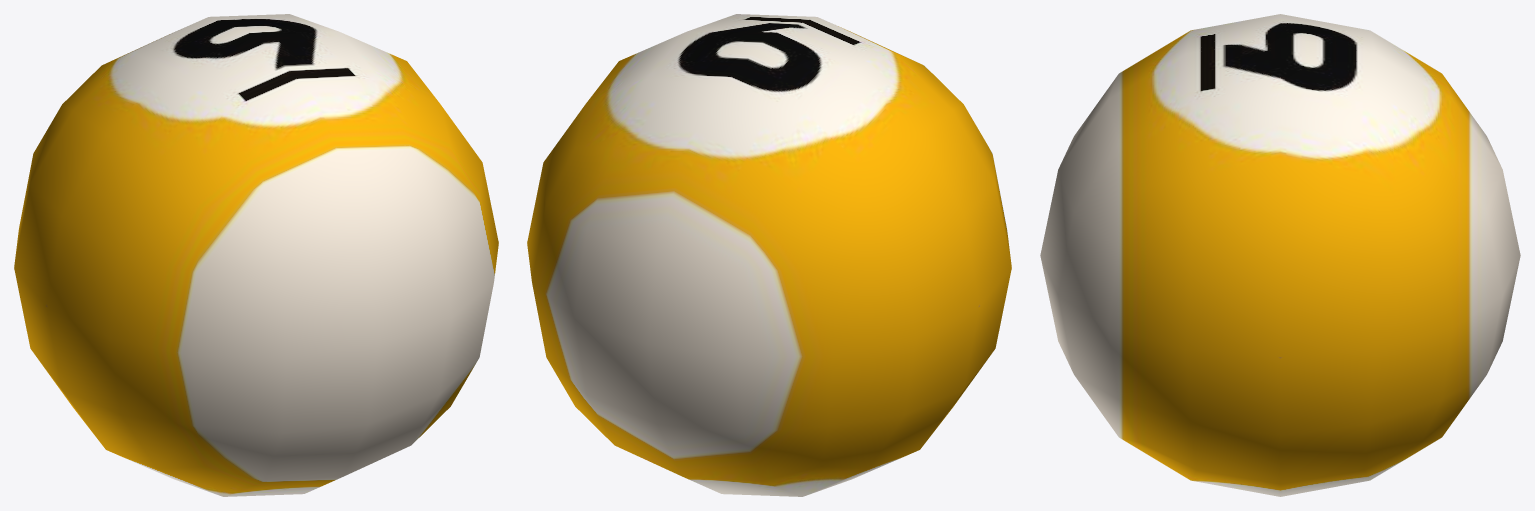
File: ball_09.fbx
3 renders of one model, left to right at view 1: azimuth 30°, elevation 25°; view 2: azimuth 150°, elevation 25°; view 3: azimuth 270°, elevation 25°, orthographic.
Parts seen in each view (by area): view 1: BilliardBall.009; view 2: BilliardBall.009; view 3: BilliardBall.009.
Part boxes in pixels (bbox=[...]): BilliardBall.009: bbox=[14, 14, 498, 496]; BilliardBall.009: bbox=[527, 14, 1011, 496]; BilliardBall.009: bbox=[1040, 14, 1520, 496].
Size of the model in its own units: 0.0753 by 0.0753 by 0.0753.
